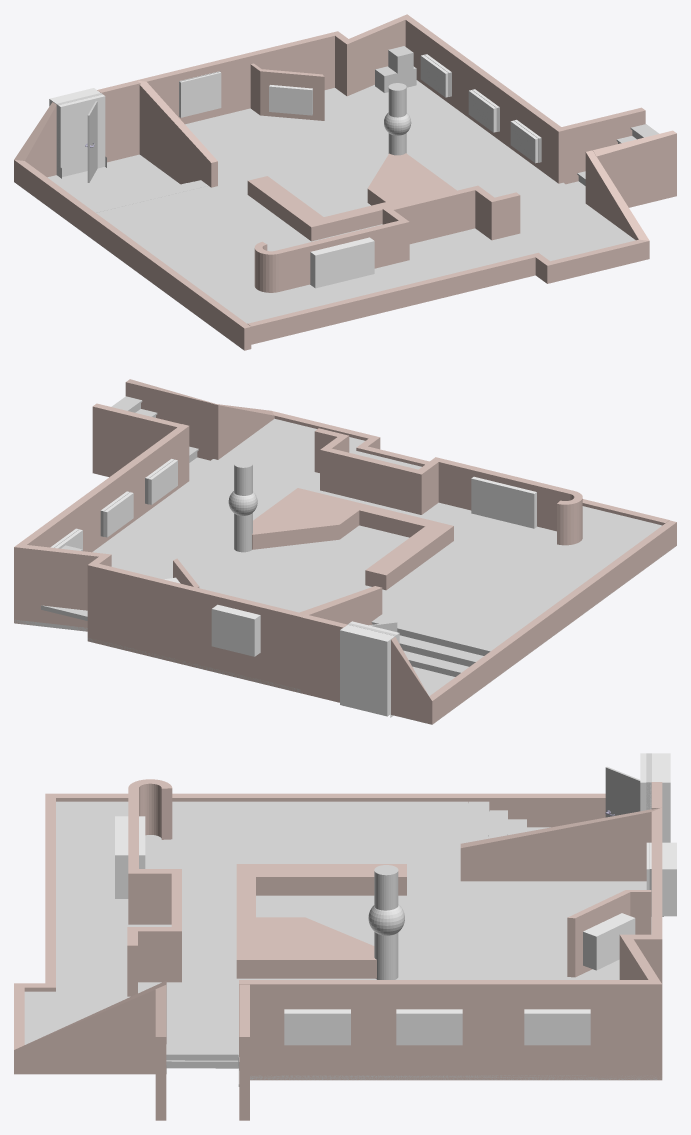
File: blockout_v2.fbx
3 renders of one model, top to bottom at view 1: azimuth 30°, elevation 25°; view 2: azimuth 150°, elevation 25°; view 3: azimuth 270°, elevation 25°, orthographic. The views are drawn at different scales.
Parts seen in each view (by area): view 1: Plane.001, Room.002, Room.001, Room, Room.003, Room.008, Plane, Room.007, CTRL_Hole, Room.004, CTRL_Hole.006, Room.005 (+11 smaller); view 2: Plane.001, Room.002, Room, Room.003, CTRL_Hole.005, Room.001, Room.007, Stairs.005, Room.004, Room.008, CTRL_Hole.006, CTRL_Hole.004 (+6 smaller); view 3: Plane.001, Room.002, Room.001, Room, Room.003, CTRL_Hole.008, CTRL_Hole.009, CTRL_Hole.010, Room.005, Cylinder, Stairs.005, Room.008 (+12 smaller).
Part boxes in pixels (<box>): Plane.001: <box>96,80,635,323</box>; Room.002: <box>136,14,565,241</box>; Room.001: <box>247,150,649,344</box>; Room: <box>254,185,520,292</box>; Room.003: <box>14,102,251,350</box>; Room.008: <box>592,130,676,207</box>; Plane: <box>47,154,180,206</box>; Room.007: <box>562,107,645,184</box>; CTRL_Hole: <box>60,96,105,176</box>; Room.004: <box>97,80,140,162</box>; CTRL_Hole.006: <box>310,237,374,288</box>; Room.005: <box>250,63,324,120</box>; Plane.001: <box>41,418,662,645</box>; Room.002: <box>14,424,453,693</box>; Room: <box>314,428,582,545</box>; Room.003: <box>391,520,676,724</box>; CTRL_Hole.005: <box>340,621,399,716</box>; Room.001: <box>211,403,669,525</box>; Room.007: <box>92,403,181,477</box>; Stairs.005: <box>371,616,498,676</box>; Room.004: <box>301,614,347,702</box>; Room.008: <box>125,379,214,460</box>; CTRL_Hole.006: <box>471,476,536,528</box>; CTRL_Hole.004: <box>211,604,260,656</box>; Plane.001: <box>24,801,651,1051</box>; Room.002: <box>236,807,662,1080</box>; Room.001: <box>14,798,166,1074</box>; Room: <box>127,779,181,996</box>; Room.003: <box>45,793,605,827</box>; CTRL_Hole.008: <box>524,1009,590,1045</box>; CTRL_Hole.009: <box>396,1009,462,1045</box>; CTRL_Hole.010: <box>284,1009,350,1045</box>; Room.005: <box>567,890,651,977</box>; Cylinder: <box>374,865,398,979</box>; Stairs.005: <box>468,801,526,842</box>; Room.008: <box>155,985,166,1120</box>.
Size of the model in its own units: 1658 by 349 by 1502.
